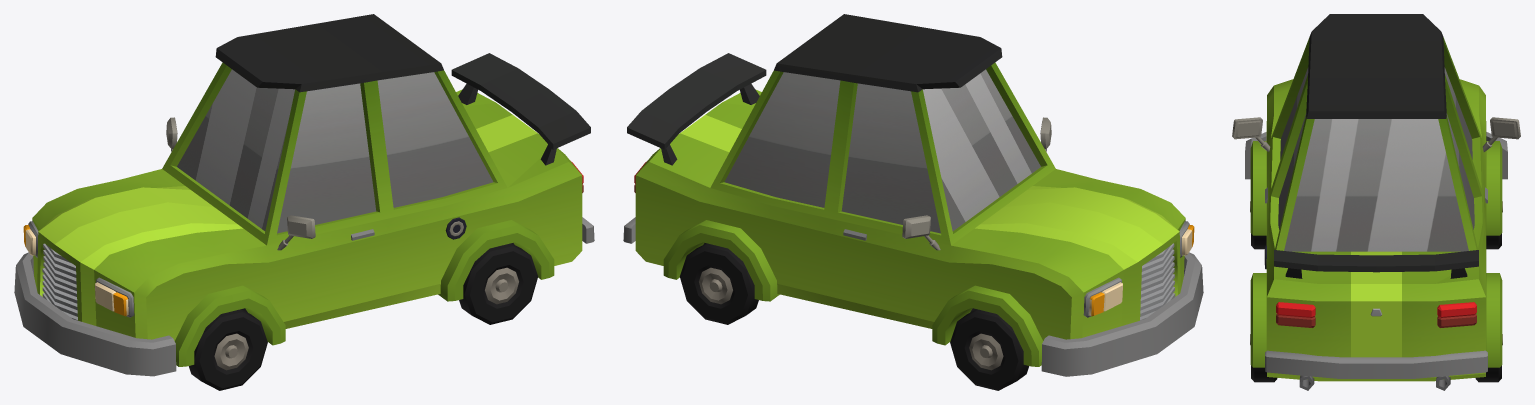
The model's file is Car_2_H.gltf.
The picture shows the model from 3 angles, left to right: view 1: azimuth 30°, elevation 25°; view 2: azimuth 150°, elevation 25°; view 3: azimuth 270°, elevation 25°; orthographic projection.
Visible parts, largest first — view 1: Car_2_H, RL, FL; view 2: Car_2_H, RR, FR; view 3: Car_2_H, RL, RR.
Part boxes in pixels (x1=…): Car_2_H: x1=14, y1=14, x2=594, y2=376; RL: x1=459, y1=243, x2=538, y2=324; FL: x1=188, y1=309, x2=267, y2=390; Car_2_H: x1=623, y1=14, x2=1203, y2=376; RR: x1=679, y1=243, x2=758, y2=324; FR: x1=950, y1=309, x2=1029, y2=390; Car_2_H: x1=1232, y1=14, x2=1520, y2=390; RL: x1=1250, y1=334, x2=1277, y2=382; RR: x1=1475, y1=334, x2=1502, y2=382.
Size of the model in its own units: 3.64 by 1.8 by 1.78.
4 materials, 4 textured.
